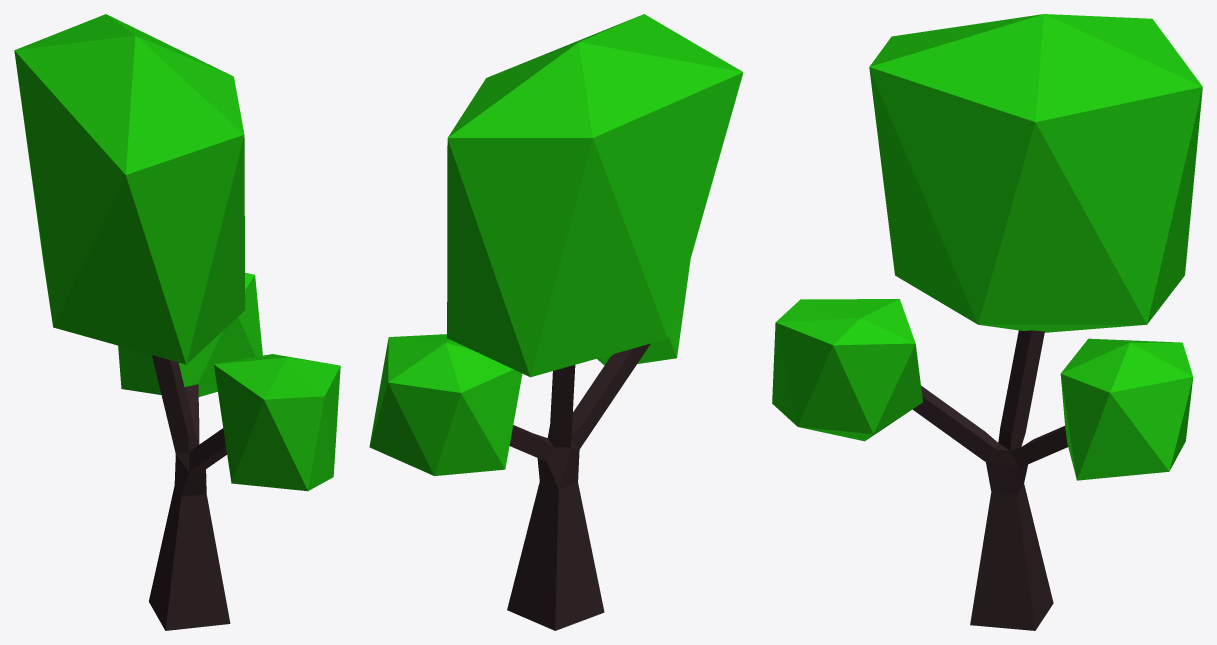
File: dtree1B(F188).obj
3 views of the same model, side by side, from view 1: azimuth 30°, elevation 25°; view 2: azimuth 150°, elevation 25°; view 3: azimuth 270°, elevation 25° (orthographic). The views are drawn at different scales.
Visible parts, largest first — view 1: Icosphere.088, Icosphere.089, Cube.022, Icosphere.087; view 2: Icosphere.088, Icosphere.087, Cube.022, Icosphere.089; view 3: Icosphere.088, Icosphere.089, Cube.022, Icosphere.087.
Part boxes in pixels (bbox=[...]): Icosphere.088: bbox=[14, 14, 245, 364]; Icosphere.089: bbox=[214, 354, 340, 491]; Cube.022: bbox=[149, 355, 230, 630]; Icosphere.087: bbox=[118, 273, 262, 396]; Icosphere.088: bbox=[447, 14, 743, 377]; Icosphere.087: bbox=[369, 334, 522, 475]; Cube.022: bbox=[507, 343, 650, 630]; Icosphere.089: bbox=[597, 259, 690, 365]; Icosphere.088: bbox=[869, 14, 1202, 332]; Icosphere.089: bbox=[772, 299, 922, 441]; Cube.022: bbox=[912, 330, 1067, 630]; Icosphere.087: bbox=[1060, 338, 1193, 480].
Bounding box in the file's own units: 1.07 × 2.48 × 1.66.
